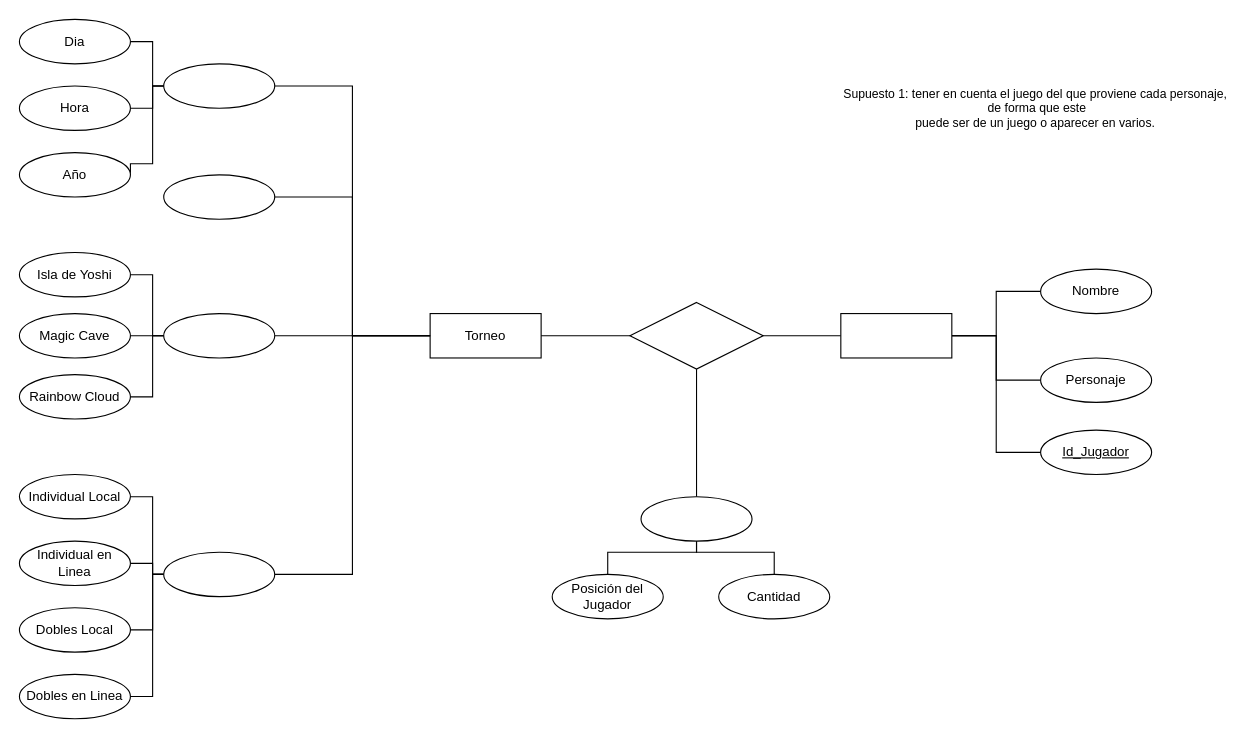
The diagram is 1260 pixels wide and 738 high, and some of its shapes have lost their labels. The centre of each missing label's shape, as x and y in pixels:
Escenario: (x=219, y=335)
Fecha: (x=219, y=85)
Jugador: (x=896, y=335)
Modalidad: (x=219, y=574)
Participa: (x=696, y=335)
Premio: (x=696, y=518)
Resultado: (x=219, y=196)
